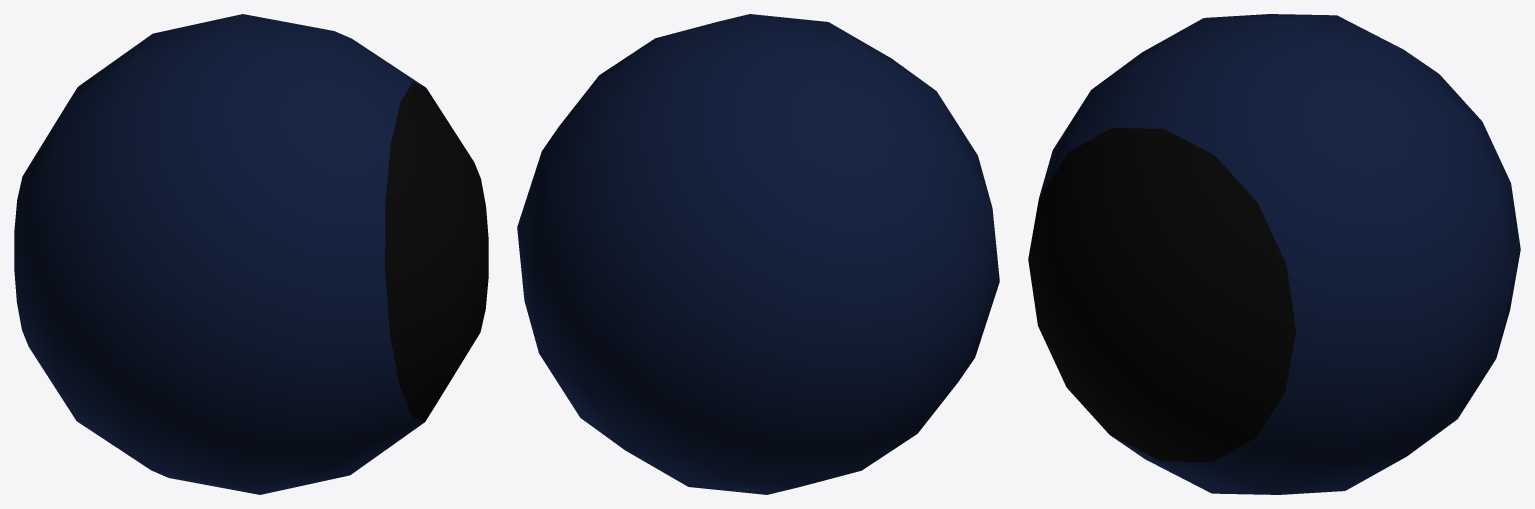
The model's file is sugar_glider_eye.obj.
3 renders of one model, left to right at view 1: azimuth 30°, elevation 25°; view 2: azimuth 150°, elevation 25°; view 3: azimuth 270°, elevation 25°, orthographic. The views are drawn at different scales.
Parts seen in each view (by area): view 1: eye; view 2: eye; view 3: eye.
Boxes of the visible parts, x1,y1,x2,y2 form: eye: [14, 14, 488, 494]; eye: [517, 14, 999, 494]; eye: [1028, 14, 1520, 494].
Bounding box in the file's own units: 0.0104 × 0.0104 × 0.0105.
